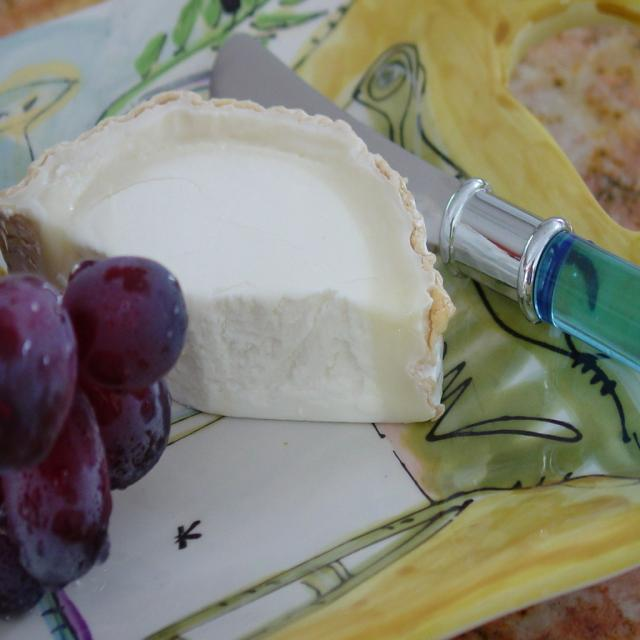Cheese: (0, 90, 459, 427)
